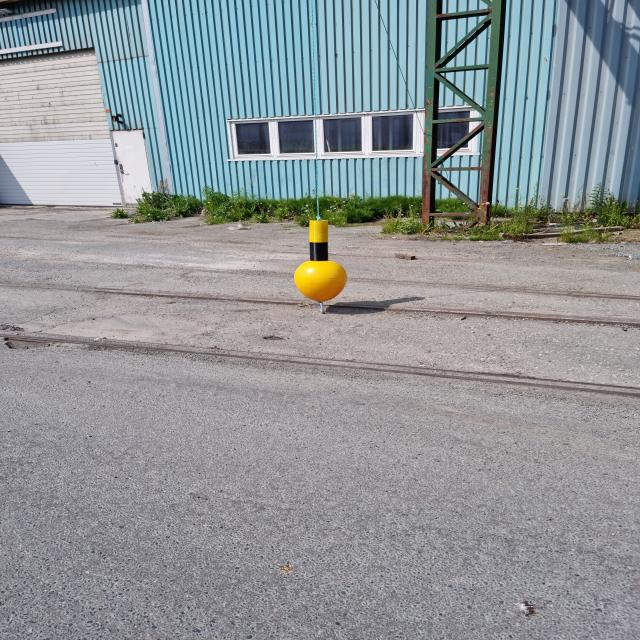west: (295, 218, 346, 300)
